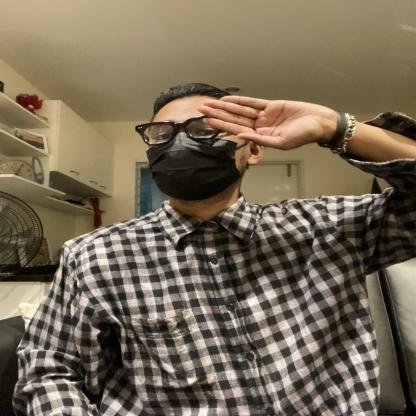Sick: (67, 78, 410, 207)
